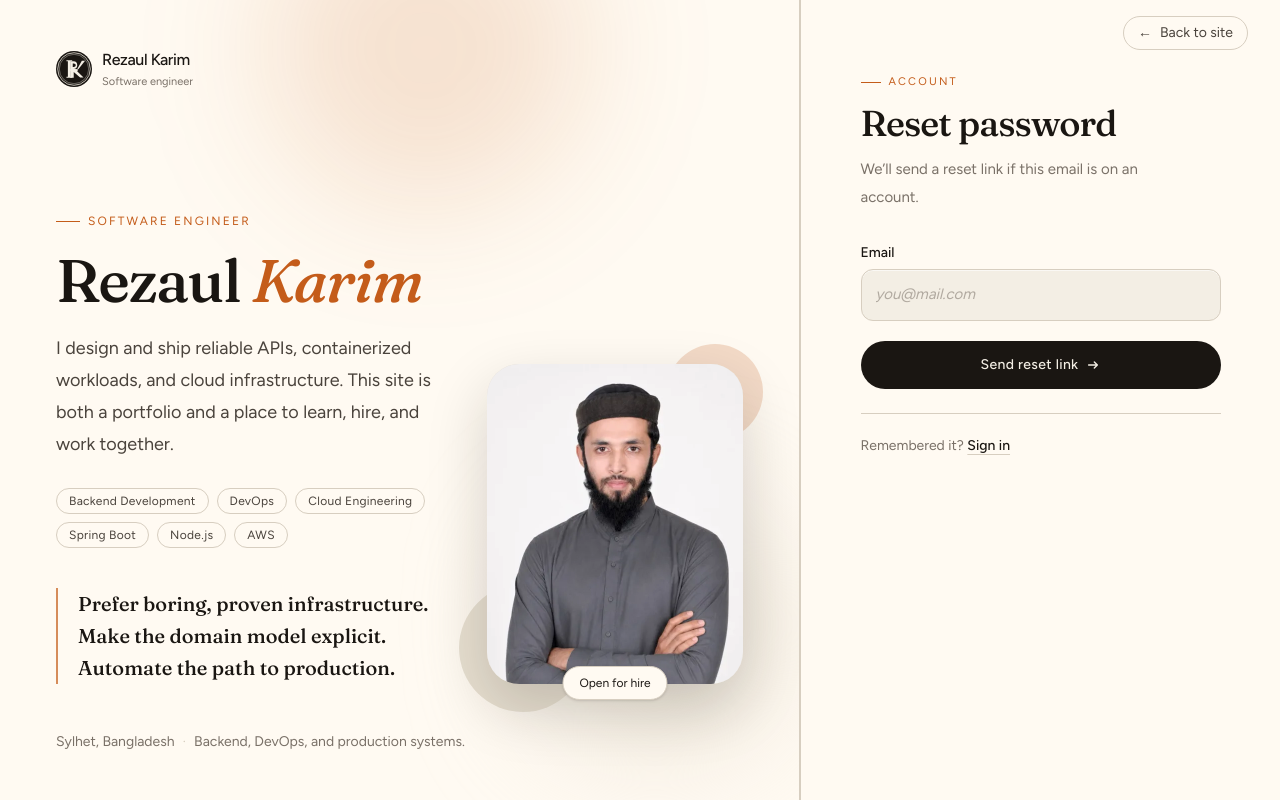
Scenario: auth screens › confirms a reset request without showing a token
This screenshot has width=1280, height=800.
In the field labelled "Email": x=1040, y=295 [860,269,1220,320], type "ada@example.com"
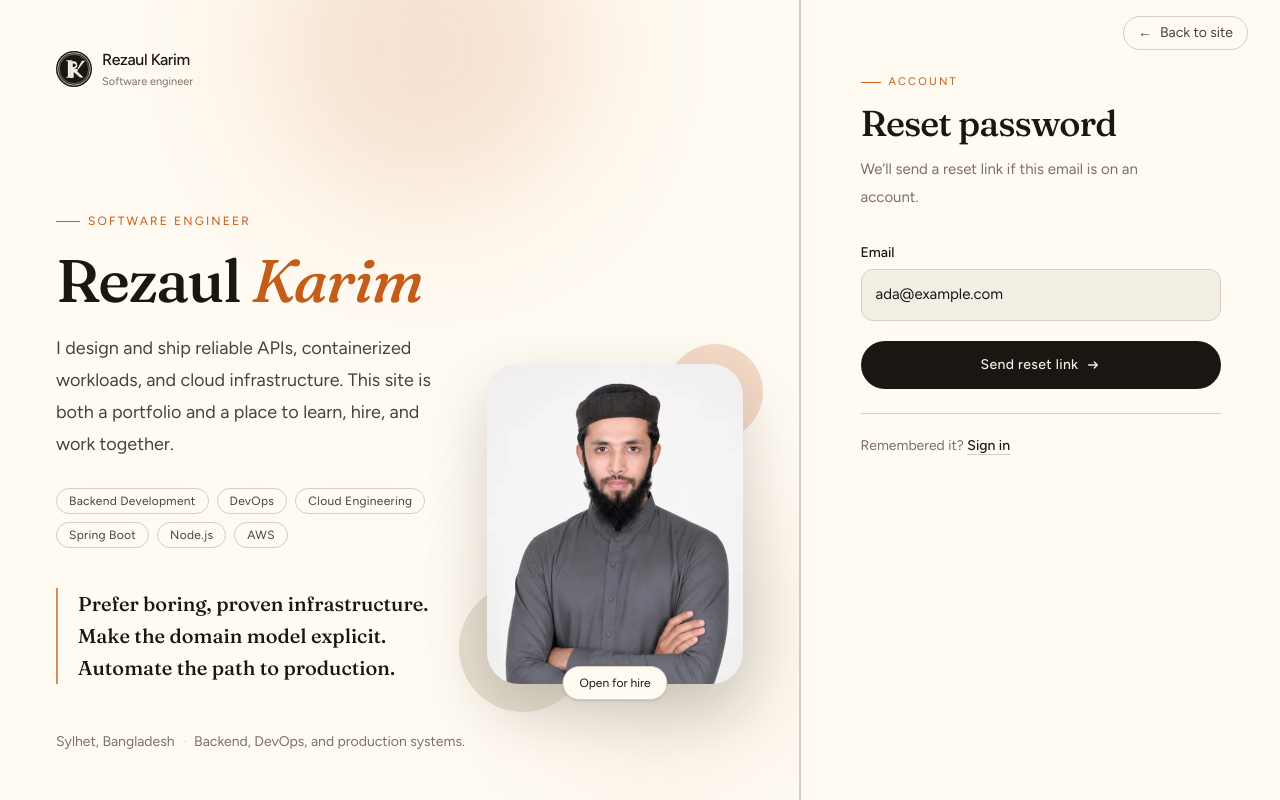
Click the button "Send reset link": x=1040, y=364 [860,340,1220,388]
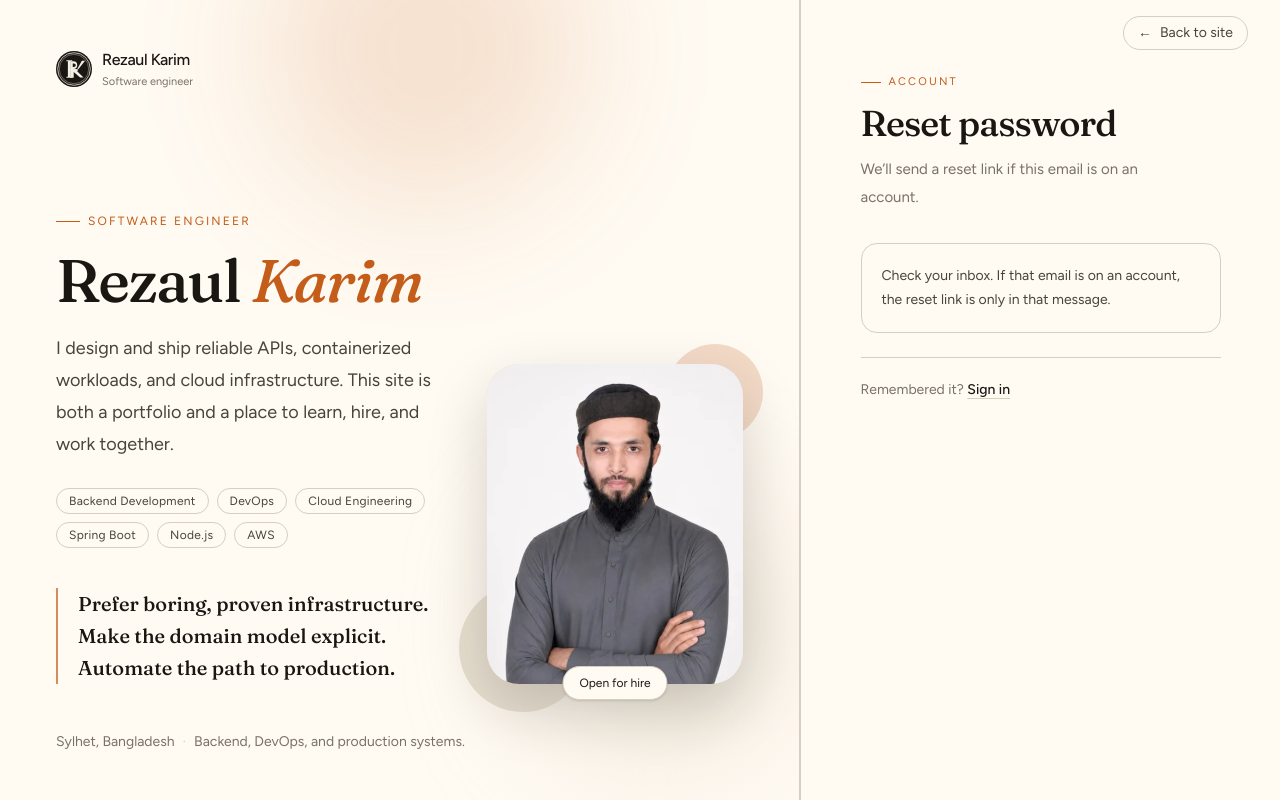
Now the text "the reset link is only in that message" is shown, box [882,267,1180,308]
